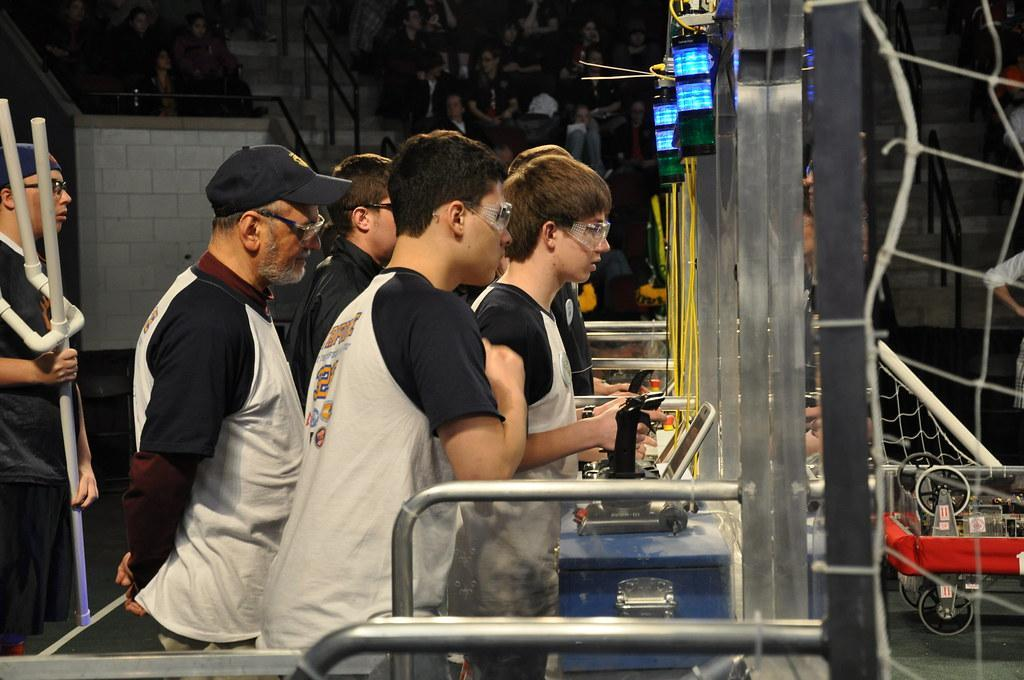robot: (880, 427, 1024, 646)
